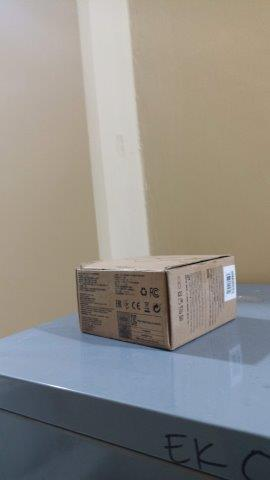kardus: (76, 256, 234, 349)
